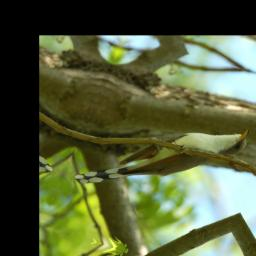Cuckoo: (74, 91, 253, 220)
